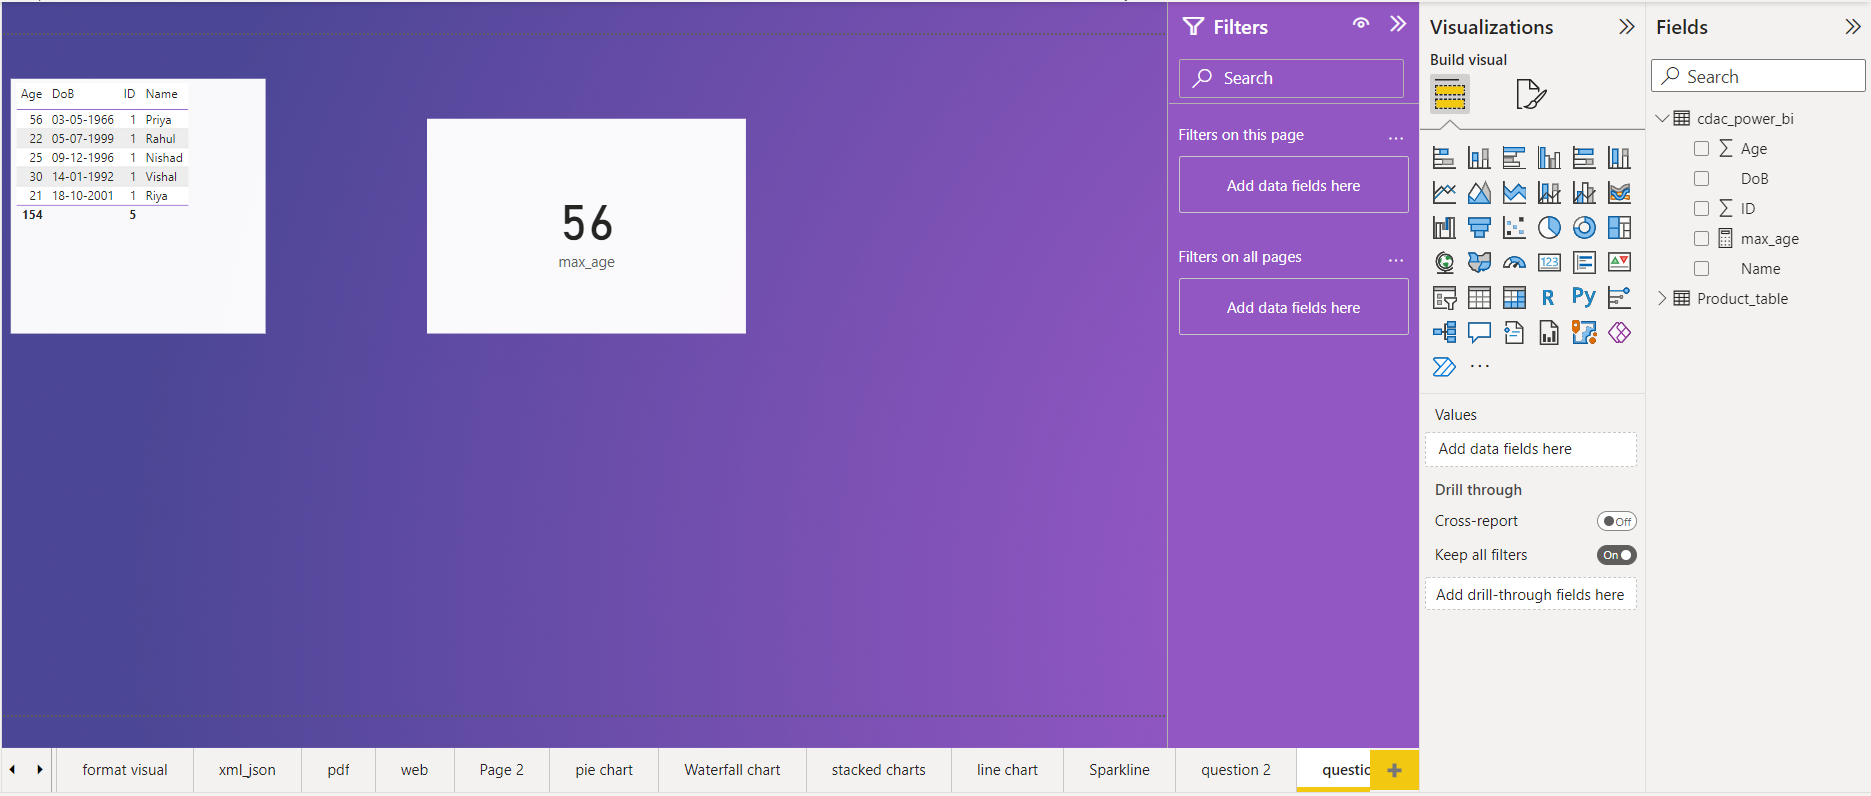

The page's visual inventory and layout, read from the dashboard file:
{"tool":"powerbi","page":{"name":"question 1","canvas":[1280,720],"ordinal":13},"visuals":[{"type":"tableEx","fields":{"Values":["cdac_power_bi.Age ","cdac_power_bi.DoB","cdac_power_bi.ID","cdac_power_bi.Name "]},"box":[10,20,280,280],"z":0},{"type":"card","fields":{"Values":["cdac_power_bi.max_age"]},"box":[467,64.5,350.2,236.2],"z":1}]}

Visuals, with their boxes on the page's 1280x720 design canvas (x1, y1, x2, y2). These are canvas units, not pixel positions in the 1871x796 screenshot, which may show the page scaled, cropped or inside an application window:
tableEx - cdac_power_bi.Age  x cdac_power_bi.DoB: 10,20,290,300
card - cdac_power_bi.max_age: 467,64,817,301
